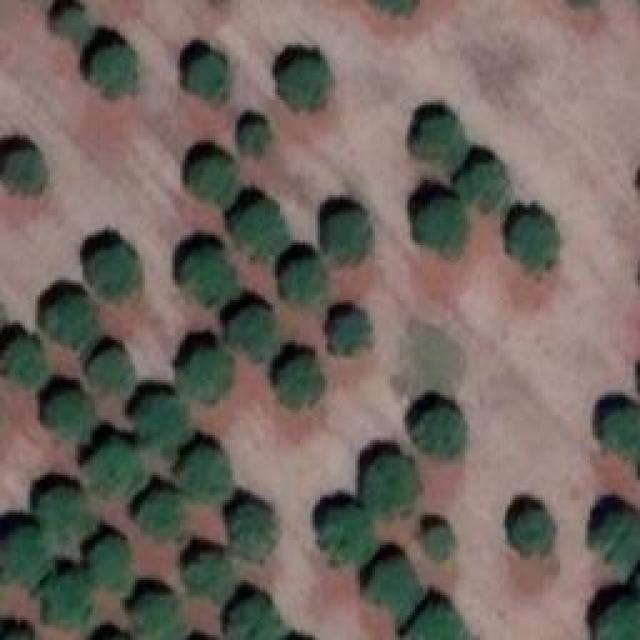Tree: (498, 210, 561, 275), (230, 198, 288, 261), (363, 455, 418, 515), (80, 440, 135, 498), (40, 570, 93, 630), (368, 552, 421, 610), (225, 305, 278, 363), (415, 200, 468, 255), (318, 505, 371, 560), (88, 250, 143, 303), (38, 483, 91, 538), (175, 350, 233, 400), (133, 493, 186, 546), (43, 295, 96, 348), (88, 45, 141, 98), (140, 390, 190, 445), (183, 245, 233, 300), (323, 208, 373, 263), (275, 58, 328, 108), (177, 443, 225, 498), (85, 535, 133, 590), (188, 155, 243, 203), (0, 525, 45, 583), (410, 117, 463, 165), (0, 338, 48, 391), (415, 408, 465, 458), (593, 513, 638, 566), (228, 503, 273, 556), (597, 405, 640, 460), (457, 162, 505, 210), (277, 357, 325, 405), (288, 253, 331, 306), (50, 392, 95, 440), (230, 597, 280, 640), (410, 602, 465, 640), (513, 510, 556, 558), (3, 150, 48, 195), (88, 350, 131, 395), (133, 590, 178, 633), (185, 550, 228, 593), (595, 600, 640, 640), (190, 55, 230, 100), (328, 315, 371, 355), (240, 120, 273, 160), (423, 525, 456, 560), (50, 8, 85, 41)
